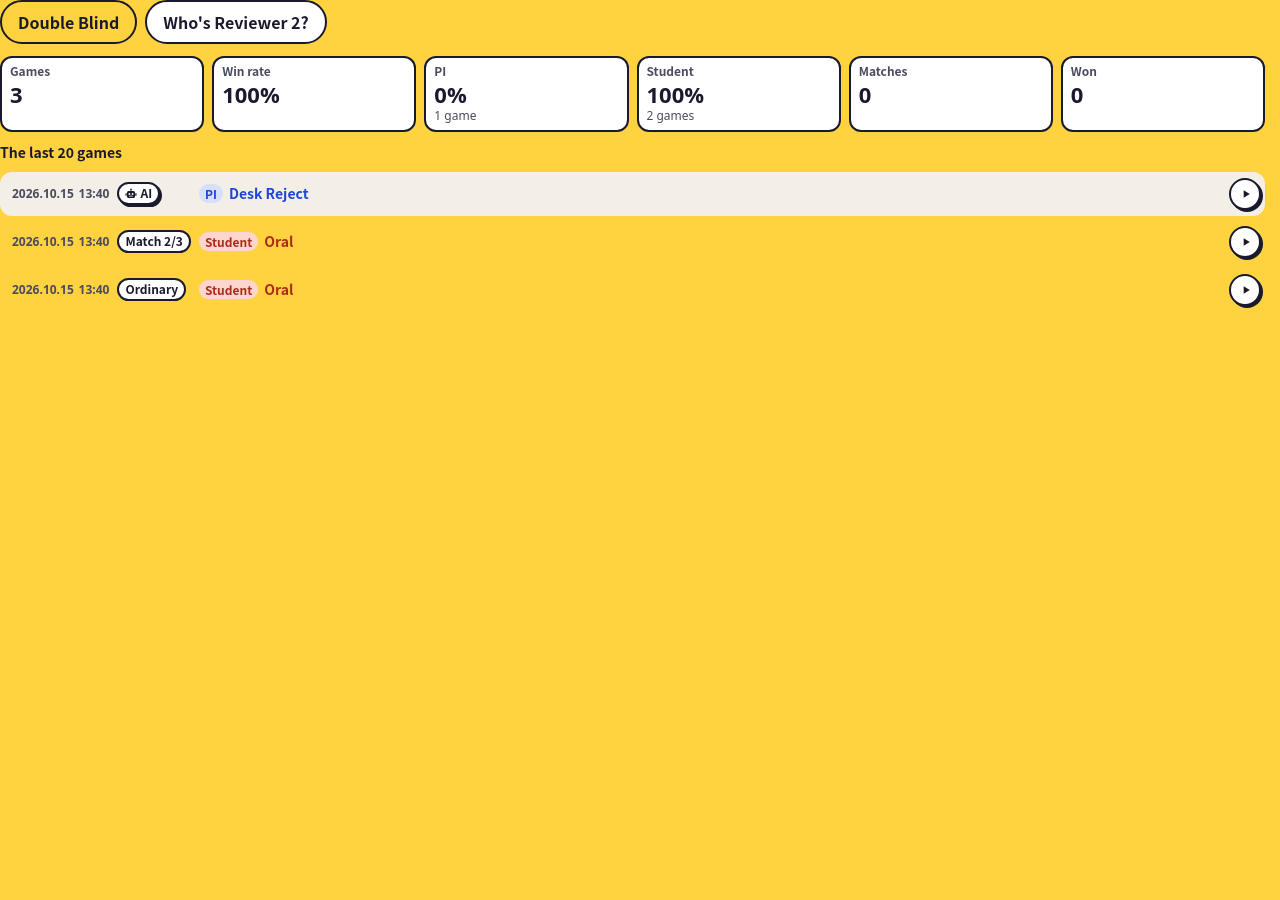
Test: ProfileRecords › marks a game that an AI played in with the robot and "AI" in place of its tag, which a tap explains
Expected: the text with class "tag" reads "Match 2/3", left=126, top=232, right=183, bottom=249
Expected: the text with class "tag" reads "Ordinary", left=126, top=280, right=178, bottom=297
Click the button with class "tag" showing "AI". click: (139, 194)
box: left=118, top=182, right=160, bottom=205
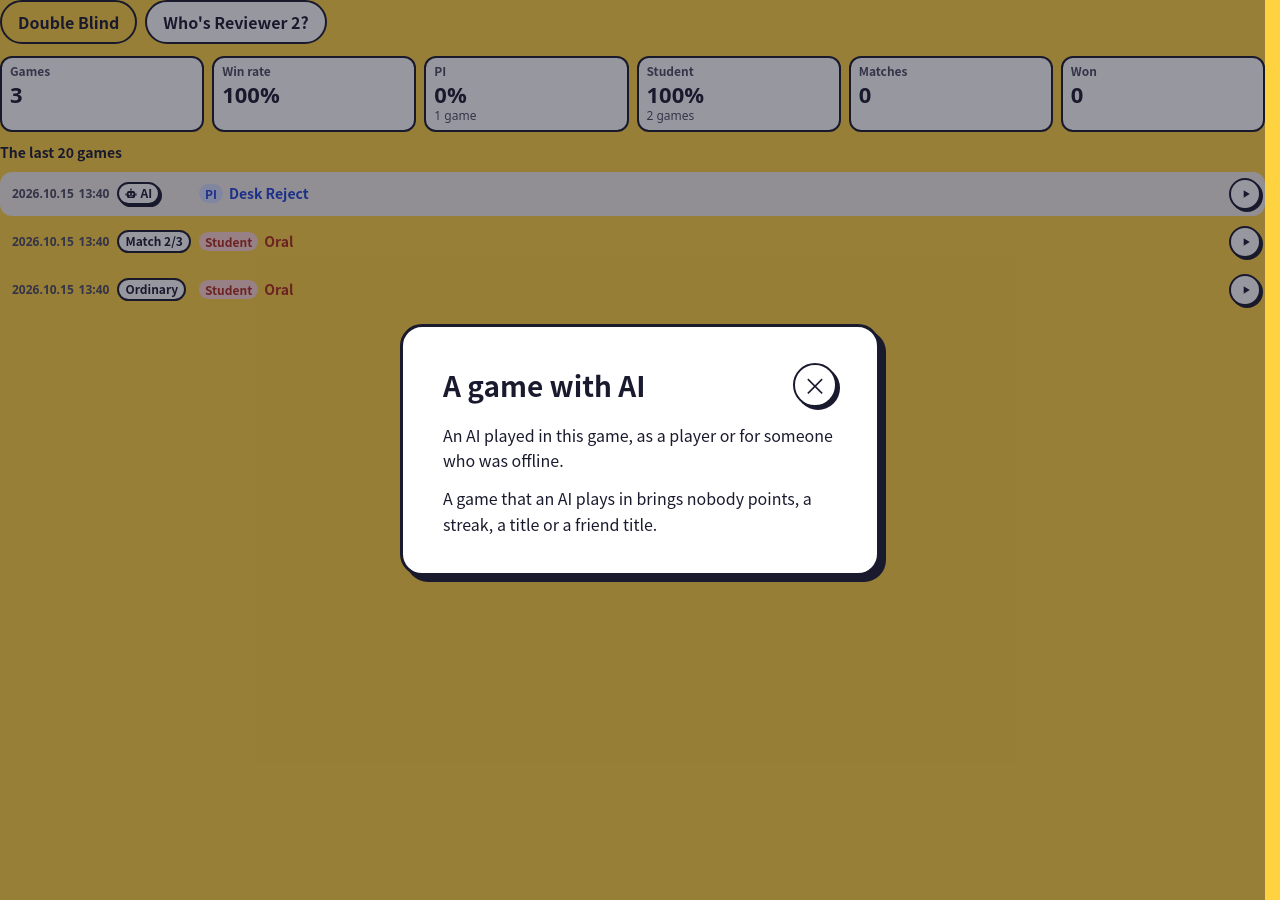
Now the heading "A game with AI" is shown, box left=443, top=365, right=646, bottom=405
Now the dialog shows "An AI played in this game, as a player or for someone who was offline.", box left=443, top=423, right=833, bottom=472
Now the dialog shows "A game that an AI plays in brings nobody points, a streak, a title or a friend title.", box left=443, top=486, right=812, bottom=536
